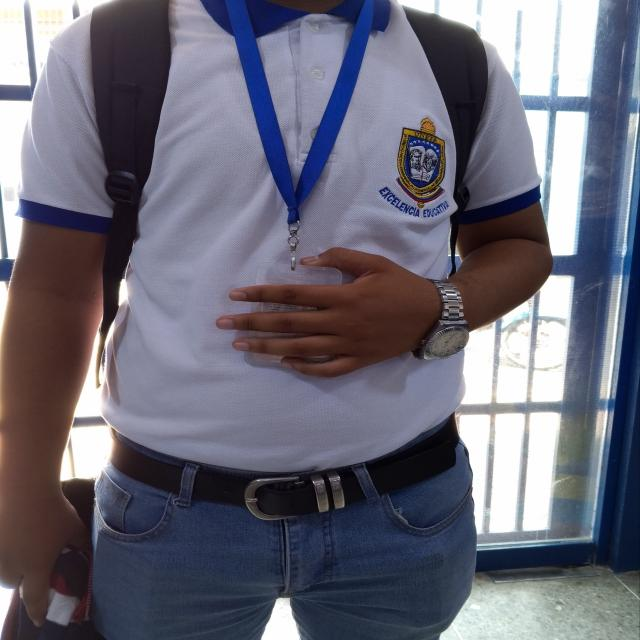carnet: (254, 283, 329, 362)
uniforme_superior: (17, 1, 542, 472)
